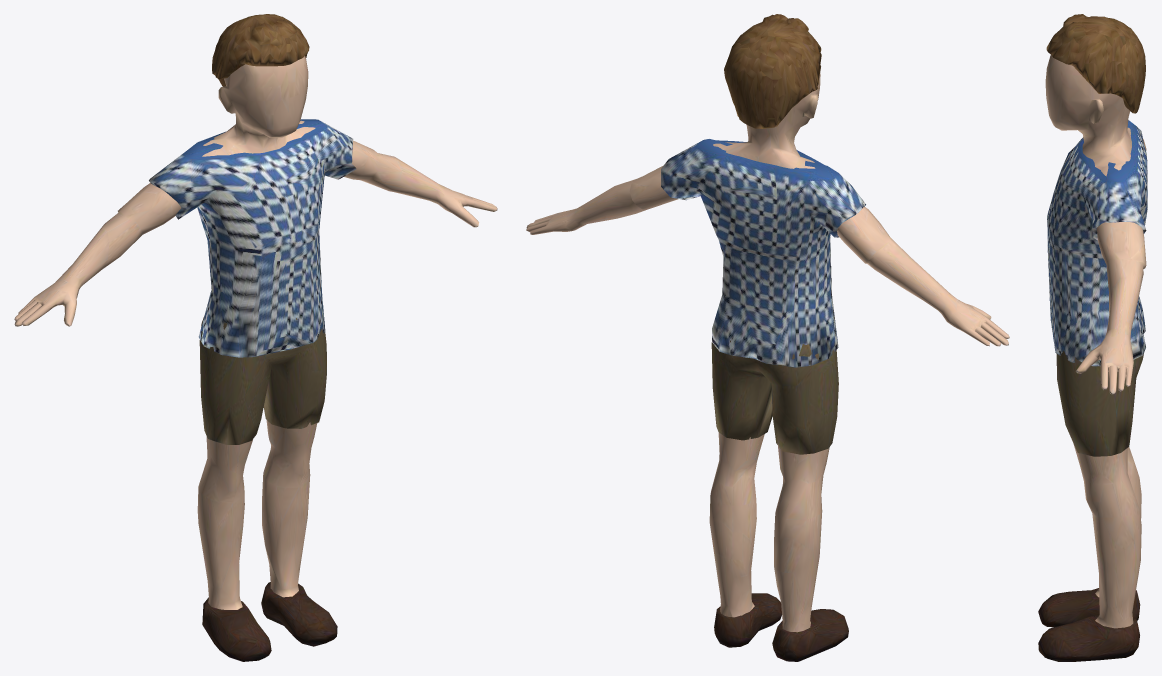
Rendered from npc_x_boy2.glb.
The picture shows the model from 3 angles, left to right: view 1: azimuth 30°, elevation 25°; view 2: azimuth 150°, elevation 25°; view 3: azimuth 270°, elevation 25°; orthographic projection.
Visible parts, largest first — view 1: Human; view 2: Human; view 3: Human.
Part boxes in pixels (x1,y1,x2,y2): Human: (14, 14, 497, 661); Human: (526, 14, 1009, 661); Human: (1038, 14, 1147, 661).
Bounding box in the file's own units: 1.16 × 1.43 × 0.2284.
Materials: 1 (1 with a texture image).
